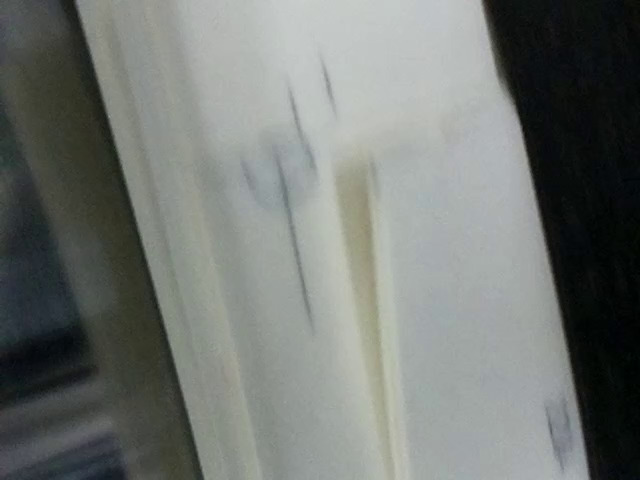not_sure: (201, 88, 334, 218)
